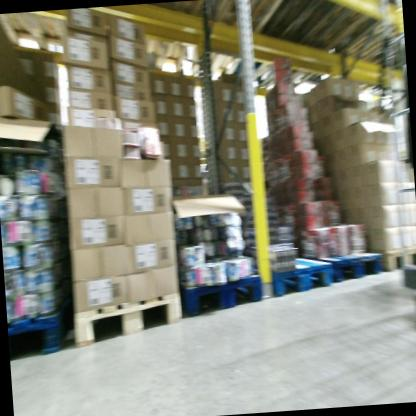pallet: (67, 287, 188, 354), (308, 0, 403, 60), (175, 261, 266, 319), (243, 245, 337, 301), (296, 235, 384, 290), (7, 290, 78, 358), (375, 238, 416, 279)
